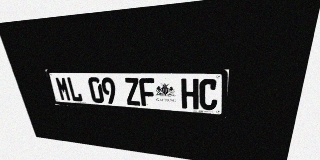0: (87, 77, 105, 103)
9: (100, 77, 118, 104)
C: (199, 79, 218, 111)
F: (139, 78, 156, 107)
H: (181, 78, 199, 109)
L: (66, 77, 83, 102)
M: (55, 77, 72, 101)
Z: (124, 78, 141, 106)
